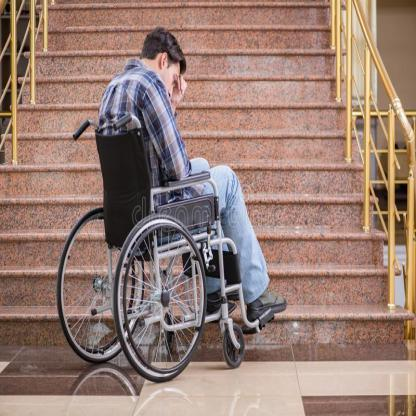wheelchair: (56, 27, 286, 388)
